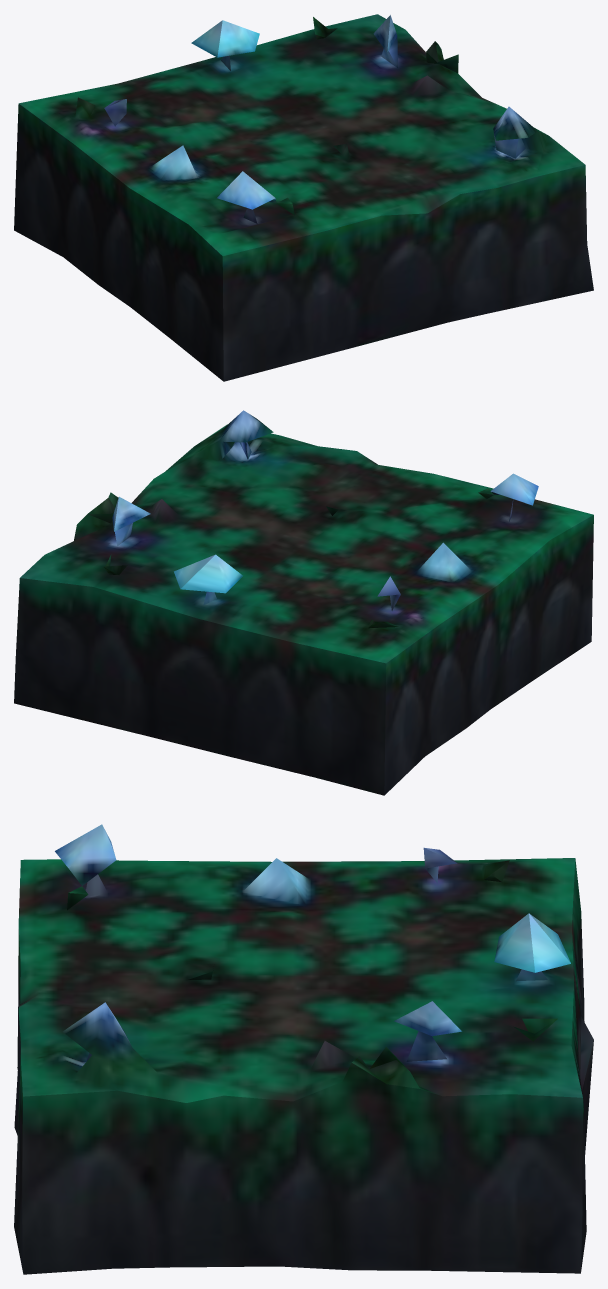
Rendered from b_mycelium_sol_2.glb.
3 views of the same model, one above another, from view 1: azimuth 30°, elevation 25°; view 2: azimuth 150°, elevation 25°; view 3: azimuth 270°, elevation 25° (orthographic). The views are drawn at different scales.
Visible parts, largest first — view 1: geometry_0; view 2: geometry_0; view 3: geometry_0.
Part boxes in pixels (<box>): geometry_0: <box>14,14,593,381</box>; geometry_0: <box>14,410,593,795</box>; geometry_0: <box>14,824,593,1274</box>.
Size of the model in its own units: 1 by 0.4638 by 1.
Materials: 1 (1 with a texture image).
